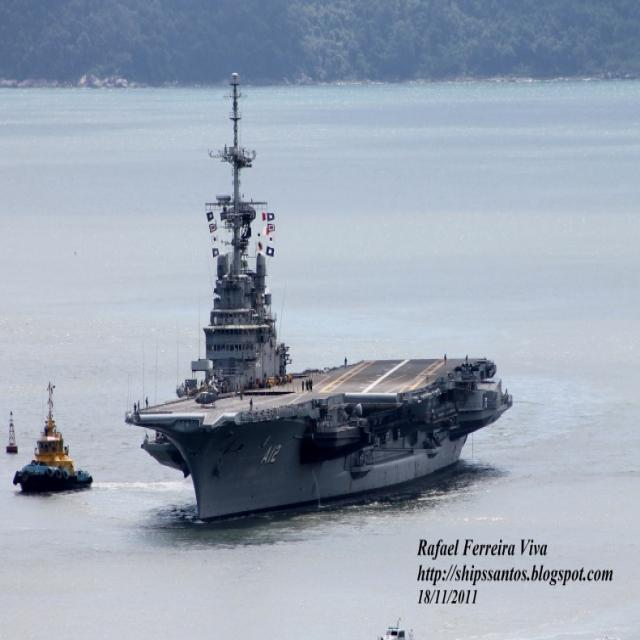Portanaves: (123, 68, 519, 524)
